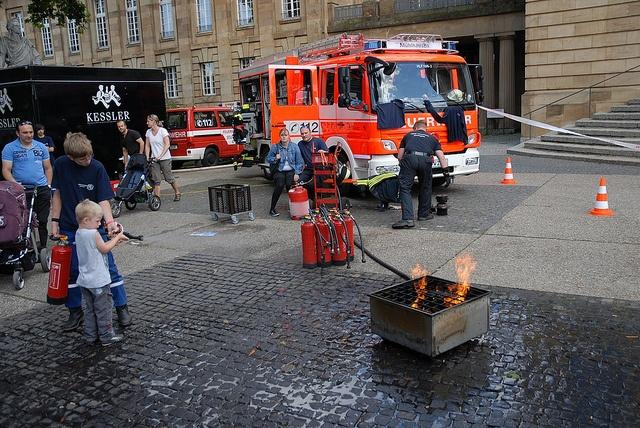APAR: (45, 234, 72, 306), (300, 214, 317, 268), (331, 214, 346, 266), (317, 215, 331, 268)
